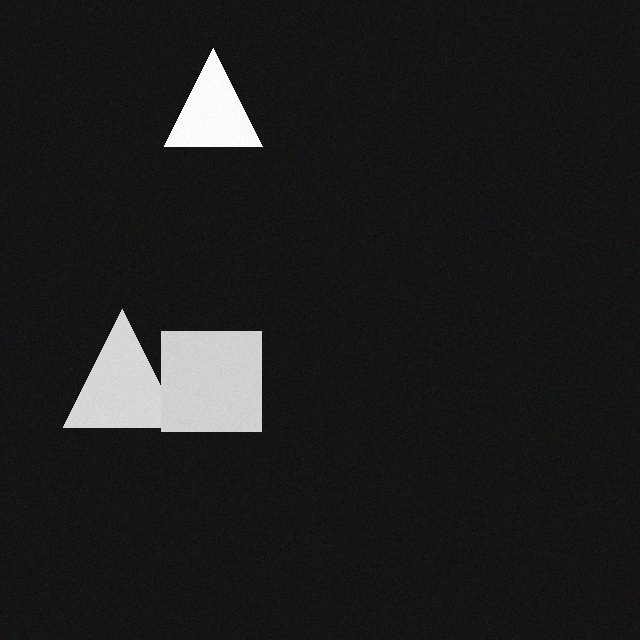square: (153, 334, 253, 434)
triangle: (55, 312, 173, 430), (156, 51, 254, 149)
